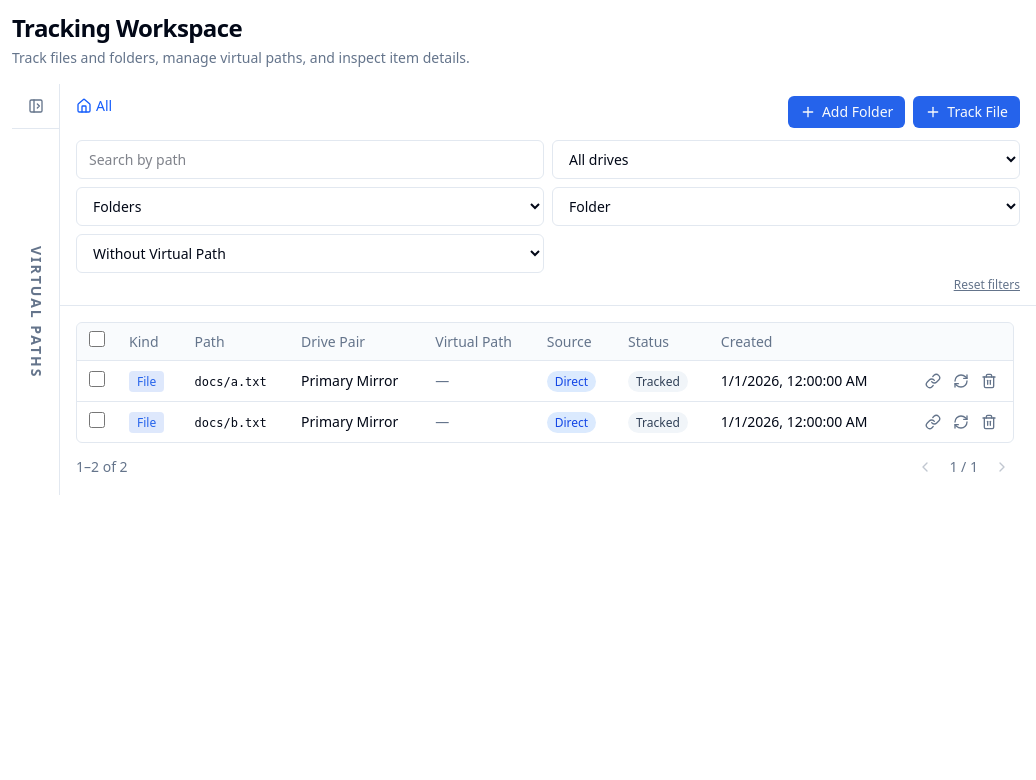
it: TrackingWorkspacePage › shows the bulk action bar for multi-select and can deselect all
The image size is (1036, 780).
Expected: the row with test id "file-row-11" is shown, x1=77 y1=360 x2=1013 y2=402
Click the checkbox with test id "select-row-file-11": (97, 378) x1=89 y1=370 x2=105 y2=386
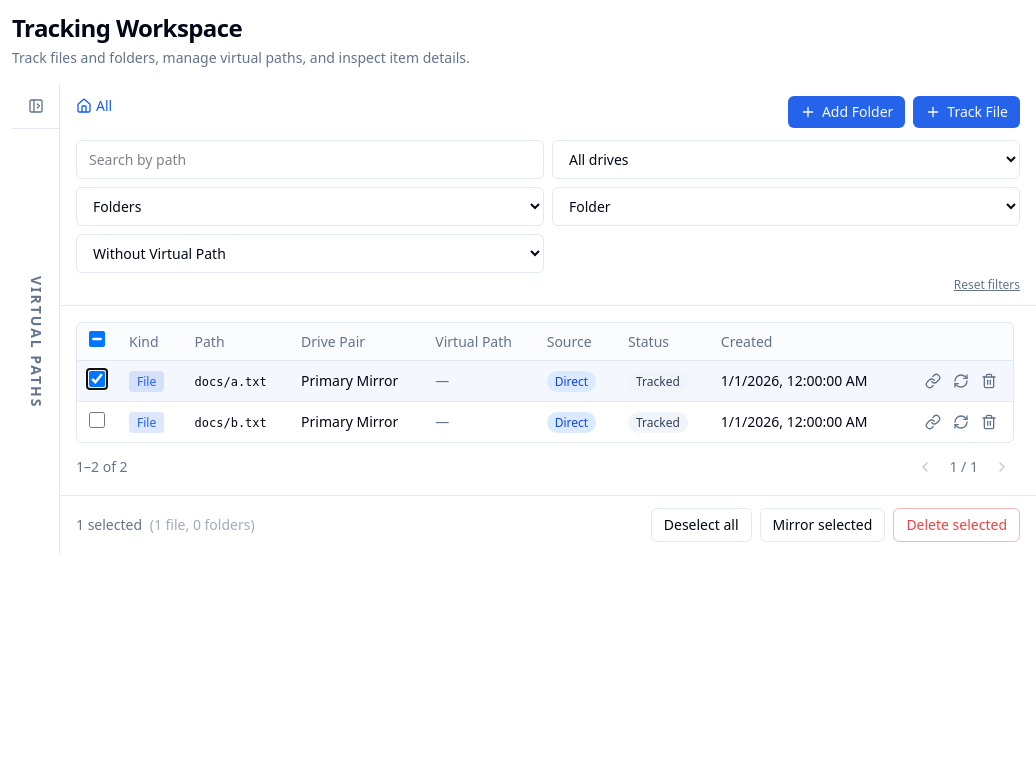
Now the element with test id "tracking-bulk-actions" is shown, box x1=60 y1=495 x2=1035 y2=554
Now the element with test id "selected-count" reads "1 selected (1 file, 0 folders)", box x1=76 y1=515 x2=255 y2=535
Click the checkbox with test id "select-row-file-12": (97, 420) x1=89 y1=412 x2=105 y2=428
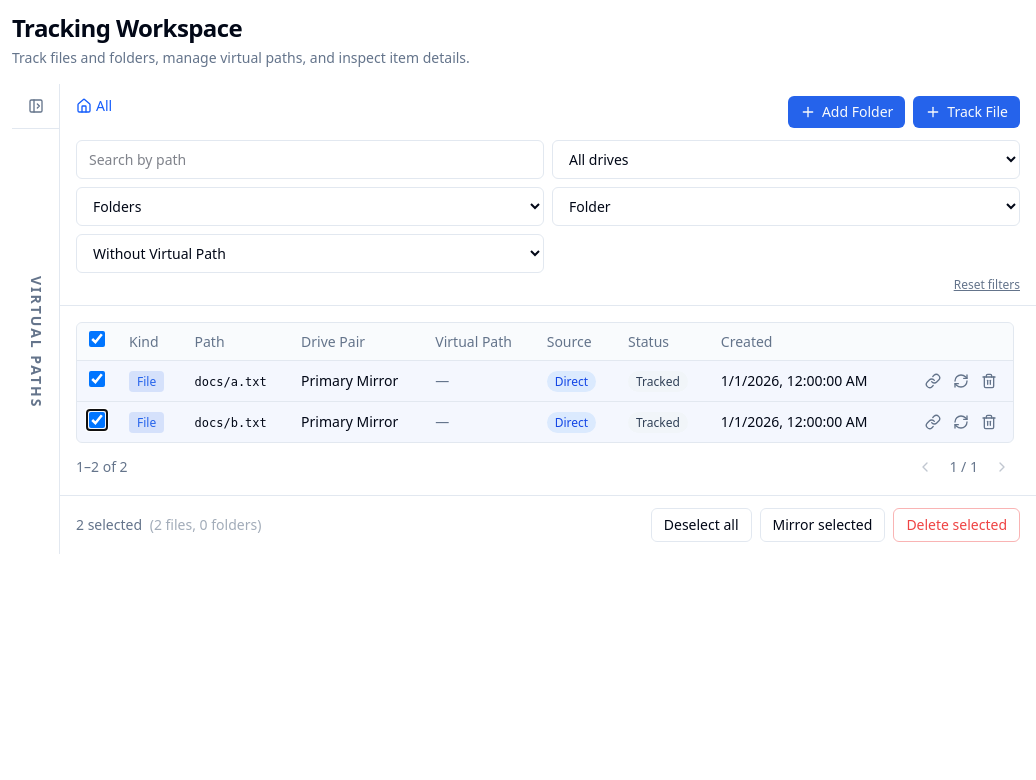
Now the element with test id "selected-count" reads "2 selected (2 files, 0 folders)", box x1=76 y1=515 x2=261 y2=535
Click the button with test id "bulk-deselect": (701, 525) x1=651 y1=508 x2=752 y2=542
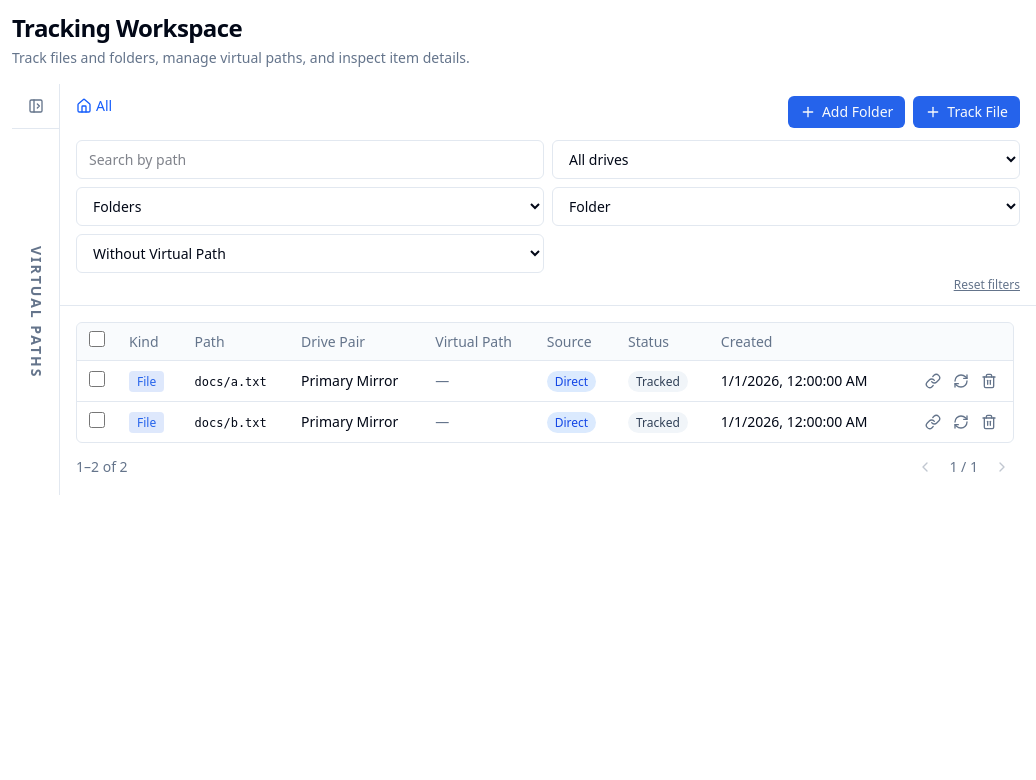
Now the element with test id "tracking-bulk-actions" is gone
